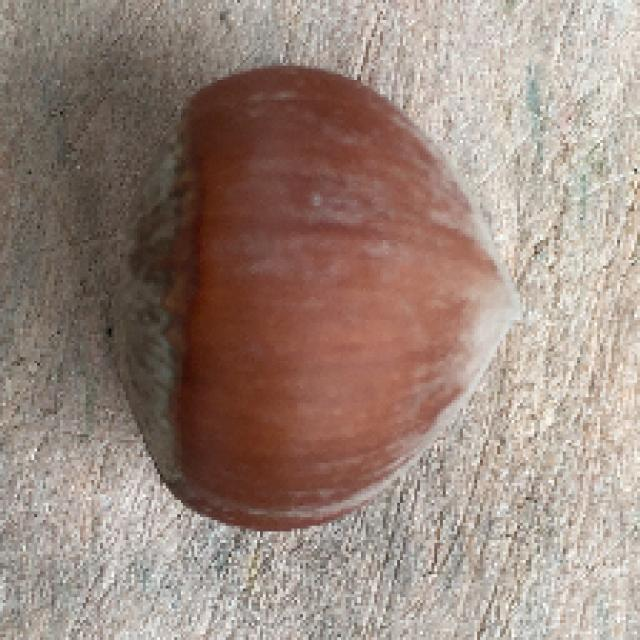hazelnut: (79, 67, 520, 528)
